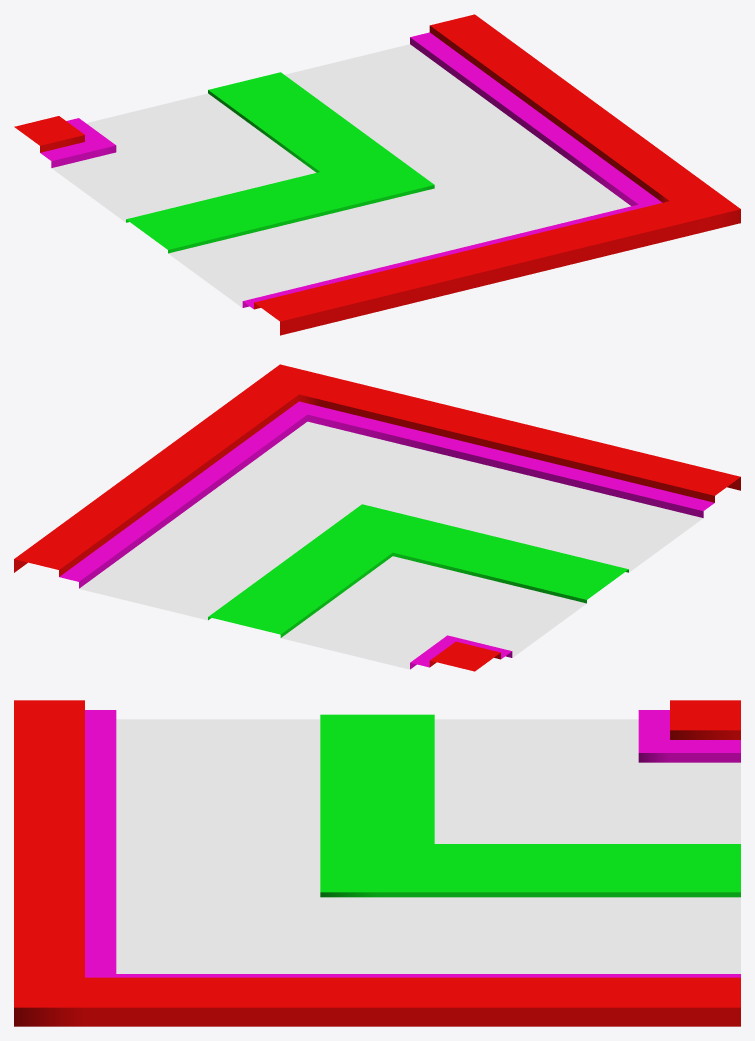
The model's file is Floor-Turn.fbx.
The picture shows the model from 3 angles, top to bottom: view 1: azimuth 30°, elevation 25°; view 2: azimuth 150°, elevation 25°; view 3: azimuth 270°, elevation 25°; orthographic projection. The views are drawn at different scales.
Parts seen in each view (by area): view 1: Turn; view 2: Turn; view 3: Turn.
Boxes of the visible parts, x1,y1,x2,y2 form: Turn: (14, 14, 740, 335); Turn: (14, 364, 740, 671); Turn: (14, 700, 740, 1026).
Bounding box in the file's own units: 78.74 × 2.28 × 78.74.
